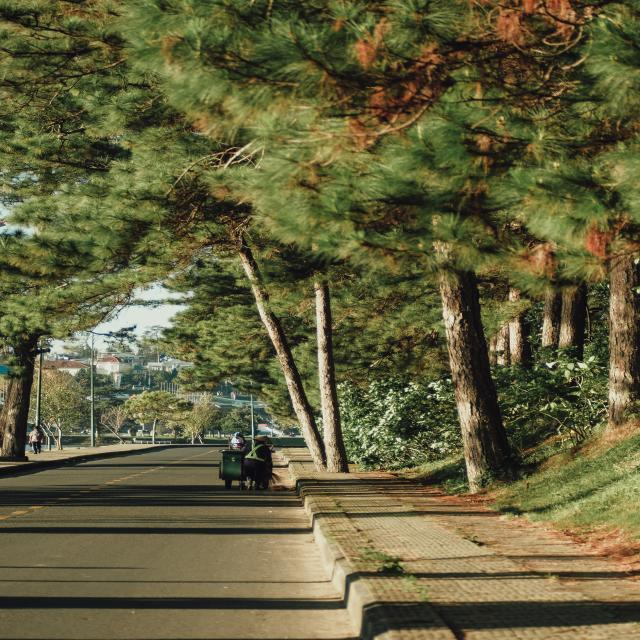tree: (230, 60, 640, 528)
